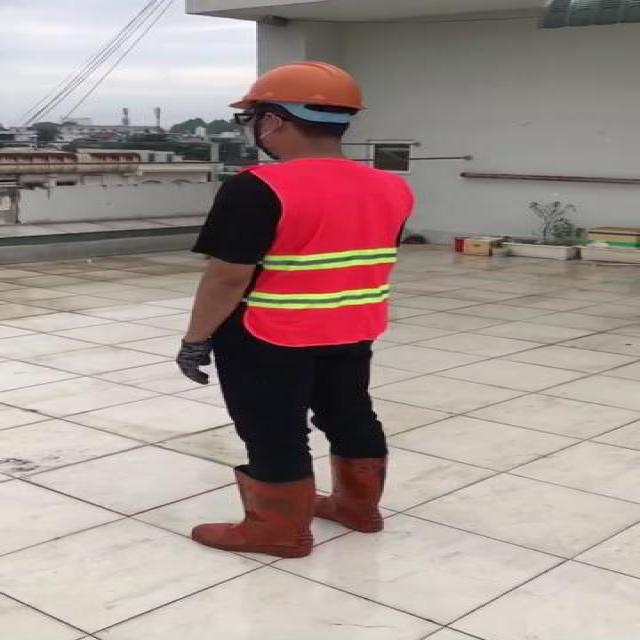boots: (188, 469, 320, 562), (315, 454, 389, 534)
hand_glove: (172, 339, 218, 388)
head_helmet: (228, 61, 366, 110)
person: (173, 56, 410, 561)
vest: (236, 155, 414, 347)
